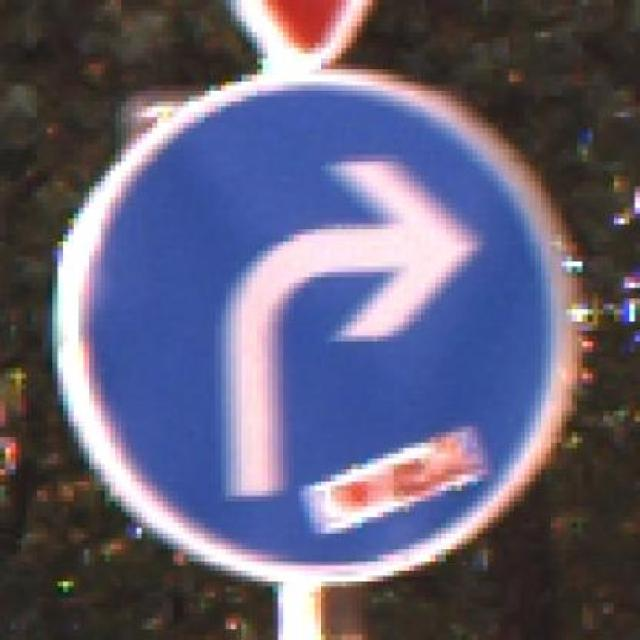Turn right ahead: (36, 69, 593, 608)
